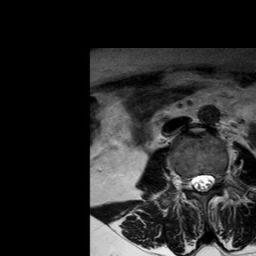CCS_normal: (199, 164, 207, 200)
LFS_normal: (215, 160, 224, 192)
LLS_normal: (207, 163, 216, 195)
RFS_normal: (181, 166, 190, 195)
RLS_normal: (190, 166, 199, 195)
